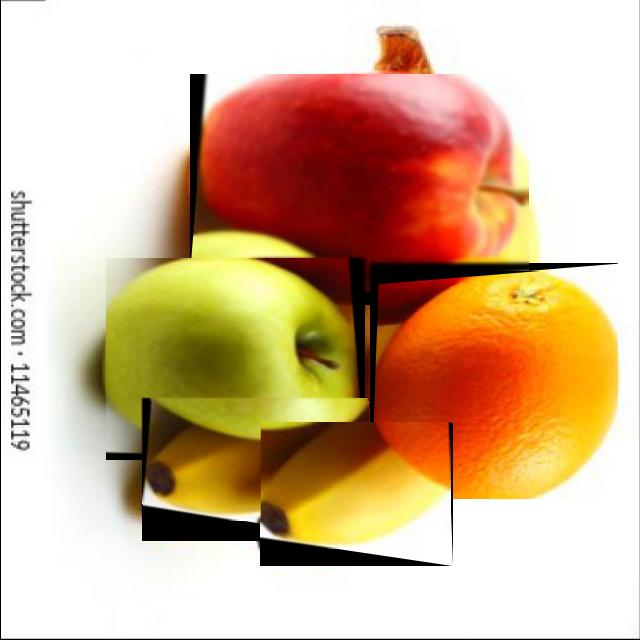Apple: (196, 74, 528, 295), (105, 258, 356, 457)
Banana: (142, 401, 367, 520), (260, 422, 449, 548)
Orange: (373, 271, 617, 498)
